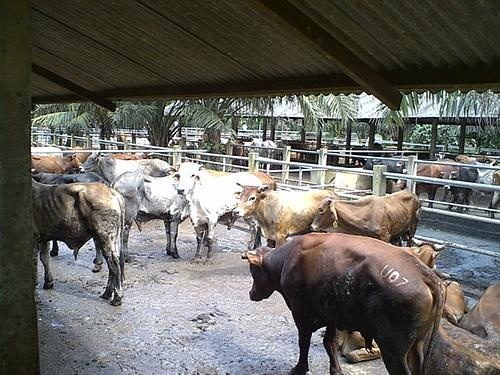cow: (242, 234, 449, 375), (33, 180, 126, 307), (174, 163, 278, 266), (233, 181, 337, 249), (113, 173, 188, 263), (310, 189, 423, 248), (81, 153, 172, 184), (30, 153, 82, 174)
